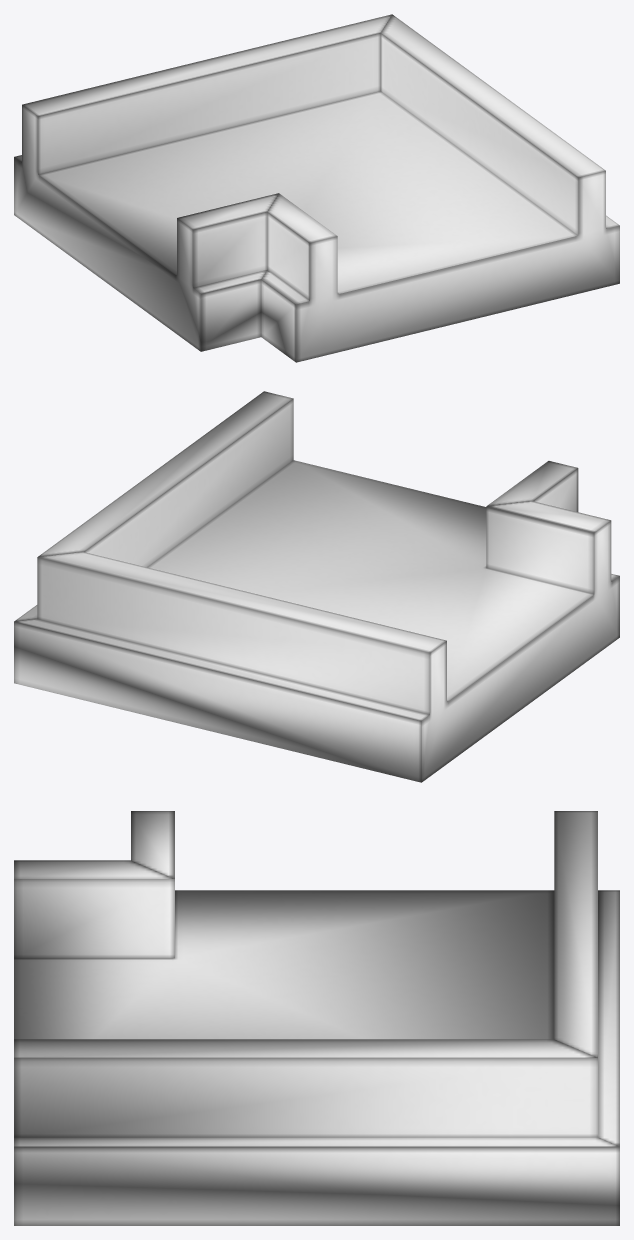
Rendered from Road-02.fbx.
3 renders of one model, top to bottom at view 1: azimuth 30°, elevation 25°; view 2: azimuth 150°, elevation 25°; view 3: azimuth 270°, elevation 25°, orthographic. The views are drawn at different scales.
Parts seen in each view (by area): view 1: Road-02; view 2: Road-02; view 3: Road-02.
Boxes of the visible parts, bbox=[...] form: Road-02: bbox=[14, 14, 619, 362]; Road-02: bbox=[14, 391, 619, 782]; Road-02: bbox=[14, 811, 619, 1225].
Bounding box in the file's own units: 0.8642 × 0.25 × 0.8642.
